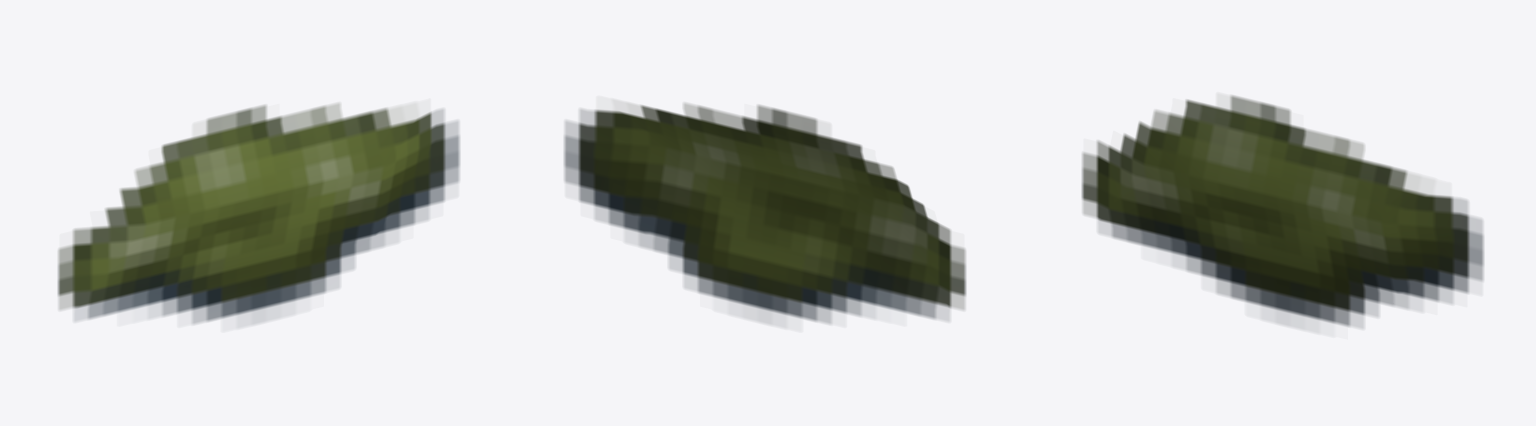
Rendered from Mousse1.glb.
3 views of the same model, side by side, from view 1: azimuth 30°, elevation 25°; view 2: azimuth 150°, elevation 25°; view 3: azimuth 330°, elevation 25° (orthographic).
Parts seen in each view (by area): view 1: Mousse1; view 2: Mousse1; view 3: Mousse1.
Boxes of the visible parts, x1,y1,x2,y2 form: Mousse1: (58, 103, 459, 323); Mousse1: (564, 103, 965, 323); Mousse1: (1082, 95, 1483, 327).
Size of the model in its own units: 1.02 by 0.5635 by 0.0473.
1 material, 1 textured.
